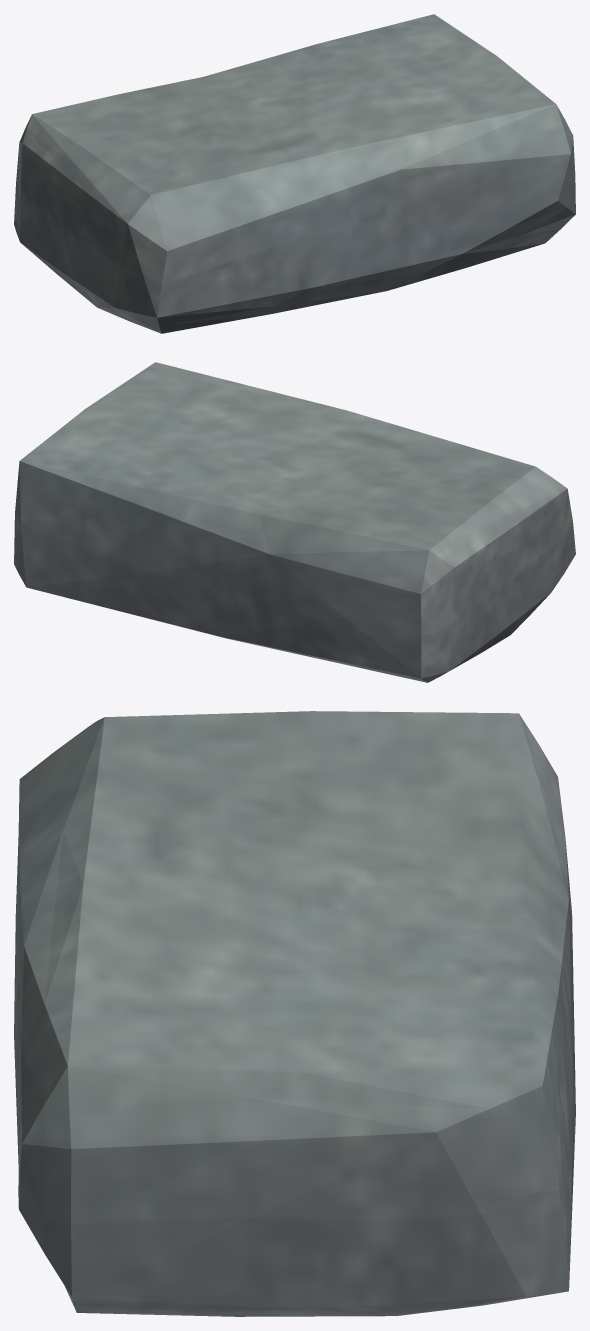
Rendered from rocks_010.fbx.
3 renders of one model, top to bottom at view 1: azimuth 30°, elevation 25°; view 2: azimuth 150°, elevation 25°; view 3: azimuth 270°, elevation 25°, orthographic. The views are drawn at different scales.
Visible parts, largest first — view 1: rocks.010; view 2: rocks.010; view 3: rocks.010.
Boxes of the visible parts, x1,y1,x2,y2 form: rocks.010: (14, 14, 575, 333); rocks.010: (14, 362, 575, 682); rocks.010: (14, 711, 575, 1316).
Bounding box in the file's own units: 73.89 × 22.97 × 44.12.
